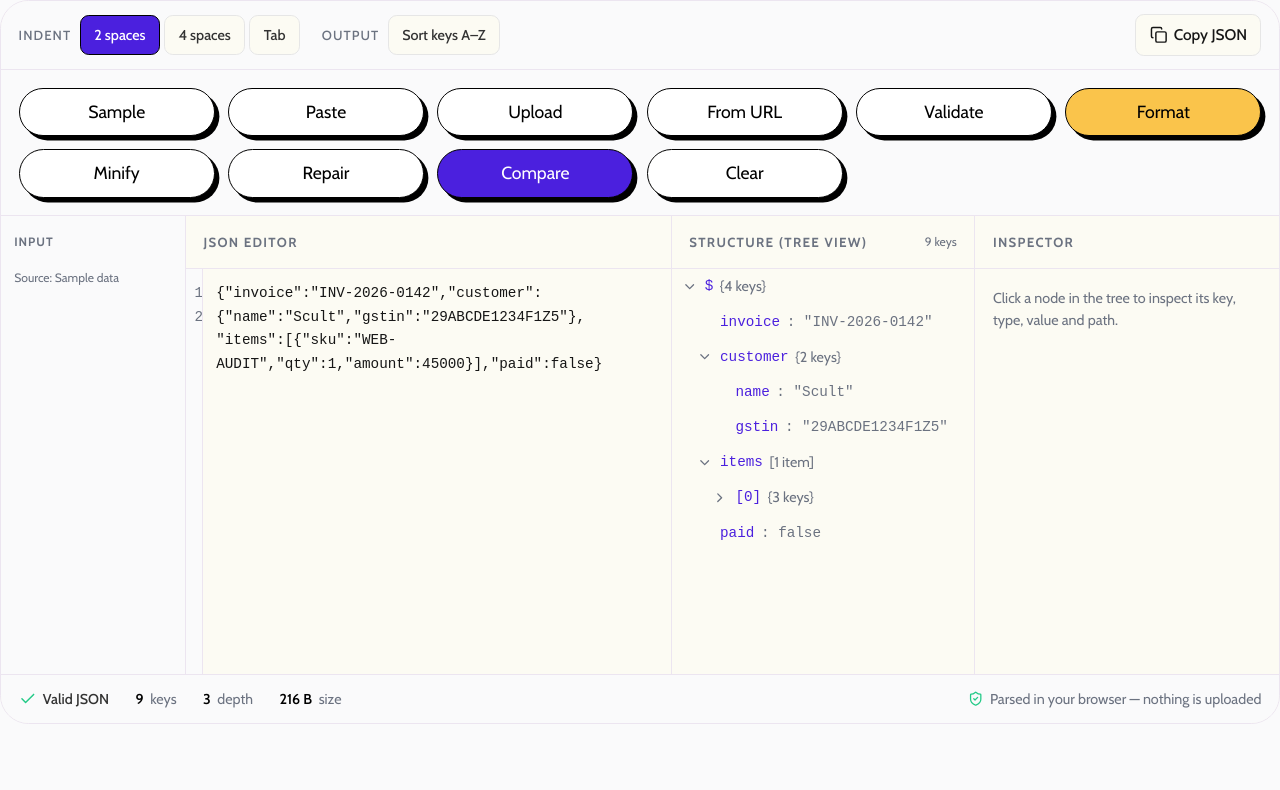
JsonFormatter › selecting a tree node fills in the inspector
Click the text "invoice" at (750, 322), box [720,308,780,335]
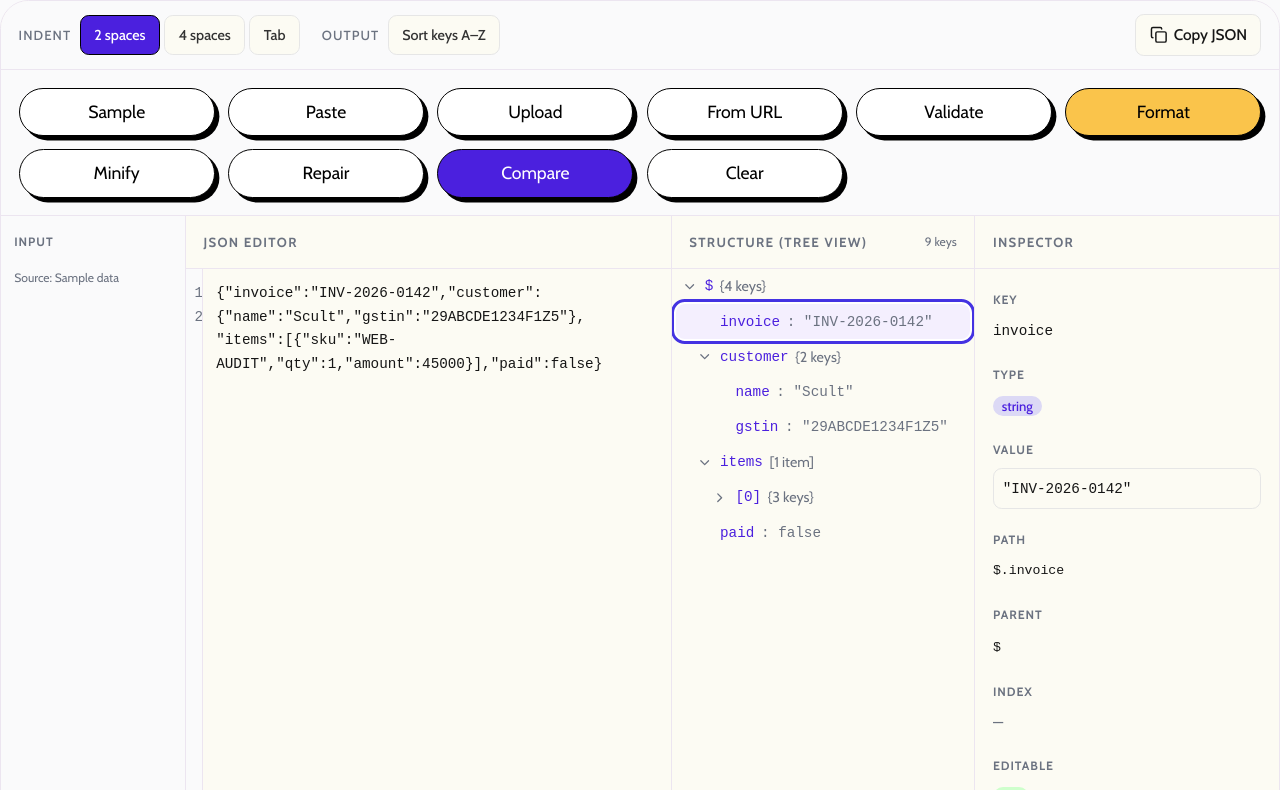
Expected: the text "invoice" below "Inspector" is shown, [993,323,1053,339]
Expected: the text "$.invoice" is shown, [993,563,1064,578]
